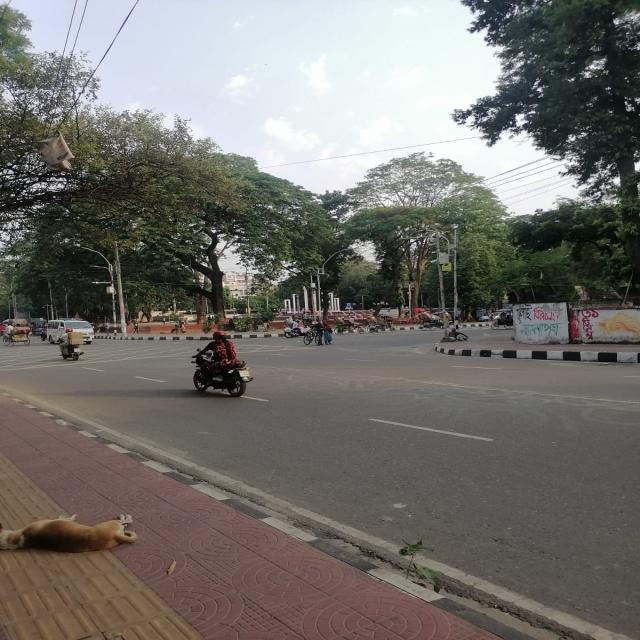person: (313, 319, 324, 346), (322, 320, 332, 345)
